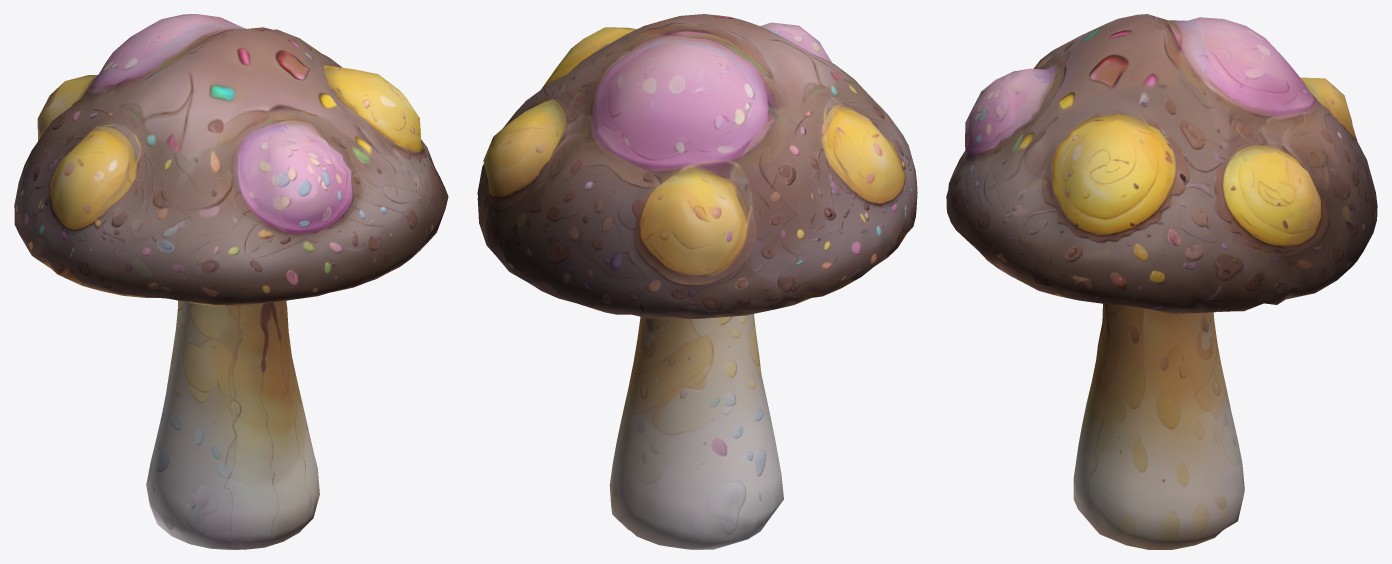
The model's file is mushroom.fbx.
The picture shows the model from 3 angles, left to right: view 1: azimuth 30°, elevation 25°; view 2: azimuth 150°, elevation 25°; view 3: azimuth 270°, elevation 25°; orthographic projection.
Parts seen in each view (by area): view 1: mushroom; view 2: mushroom; view 3: mushroom.
Part boxes in pixels (bbox=[...]): mushroom: bbox=[14, 14, 448, 549]; mushroom: bbox=[477, 14, 917, 549]; mushroom: bbox=[946, 14, 1377, 549].
Bounding box in the file's own units: 95.44 × 120 × 94.3.
